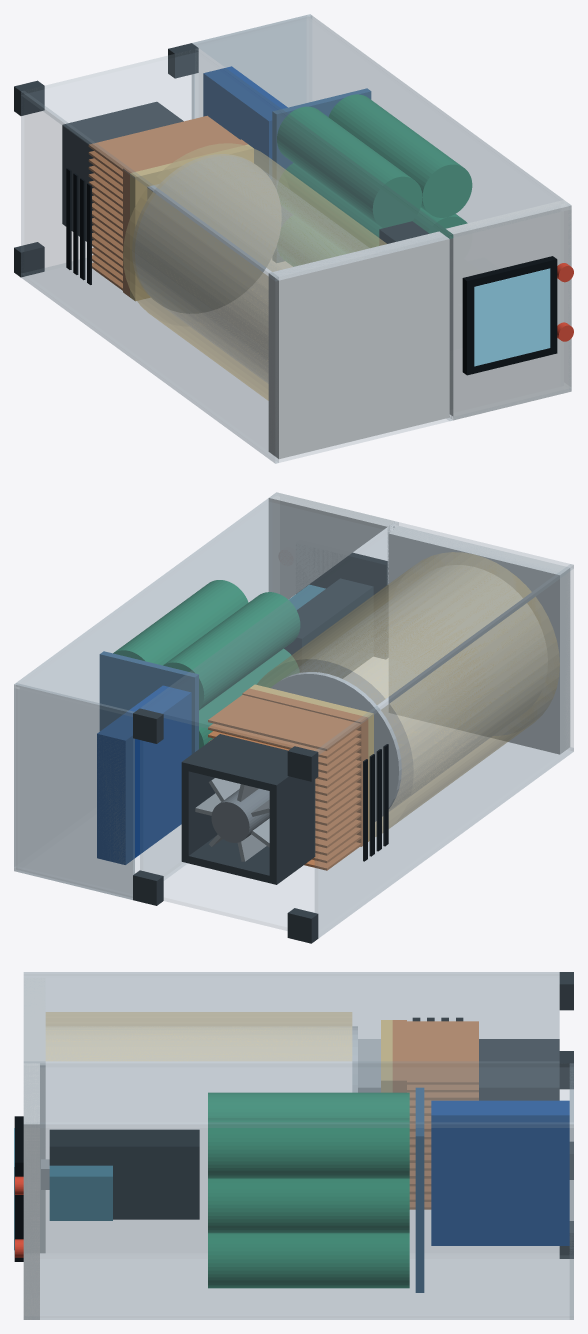
Rendered from thermox_box.obj.
3 views of the same model, one above another, from view 1: azimuth 30°, elevation 25°; view 2: azimuth 150°, elevation 25°; view 3: azimuth 270°, elevation 25° (orthographic). The views are drawn at different scales.
Visible parts, largest first — view 1: shell_front_wall, shell_side_R, lid, insulation_sleeve, back_side_R, cup_wall, cup_floor, back_top_panel, shell_divider, shell_side_L, back_rear_wall, cell_13 (+22 smaller); view 2: shell_front_wall, shell_side_R, insulation_sleeve, lid, back_side_R, cup_wall, back_bottom, shell_divider, shell_side_L, back_rear_wall, bts7960, back_top_panel (+24 smaller); view 3: back_rear_wall, shell_side_R, back_side_R, shell_divider, back_side_L, shell_front_wall, bts7960, insulation_sleeve, cell_23, cell_21, cell_22, esp32_30pin (+18 smaller).
Boxes of the visible parts, x1,y1,x2,y2 form: shell_front_wall: (21, 91, 278, 463); shell_side_R: (21, 49, 452, 280); lid: (268, 231, 449, 459); insulation_sleeve: (123, 143, 386, 400); back_side_R: (193, 15, 564, 234); cup_wall: (135, 156, 368, 383); cup_floor: (132, 154, 280, 313); back_top_panel: (446, 200, 571, 420); shell_divider: (195, 49, 452, 420); shell_side_L: (21, 258, 452, 463); back_rear_wall: (309, 16, 570, 348); cell_13: (277, 106, 422, 227); shell_front_wall: (315, 564, 573, 937); shell_side_R: (141, 521, 573, 754); insulation_sleeve: (257, 552, 559, 836); lid: (388, 526, 570, 754); back_side_R: (14, 498, 390, 716); cup_wall: (285, 565, 547, 810); back_bottom: (14, 683, 134, 899); shell_divider: (140, 522, 398, 879); shell_side_L: (162, 742, 573, 937); back_rear_wall: (14, 498, 268, 870); bts7960: (97, 685, 191, 864); back_top_panel: (268, 492, 394, 599); back_rear_wall: (24, 1122, 573, 1319); shell_side_R: (24, 972, 559, 1063); back_side_R: (24, 1063, 573, 1127); shell_divider: (24, 1061, 559, 1252); back_side_L: (40, 1259, 569, 1319); shell_front_wall: (24, 972, 559, 1038); bts7960: (431, 1100, 569, 1245); insulation_sleeve: (45, 1012, 352, 1061); cell_23: (208, 1118, 409, 1178); cell_21: (208, 1233, 409, 1288); cell_22: (208, 1178, 409, 1233); esp32_30pin: (49, 1129, 199, 1219).
Size of the model in its own units: 125 by 75 by 194.
